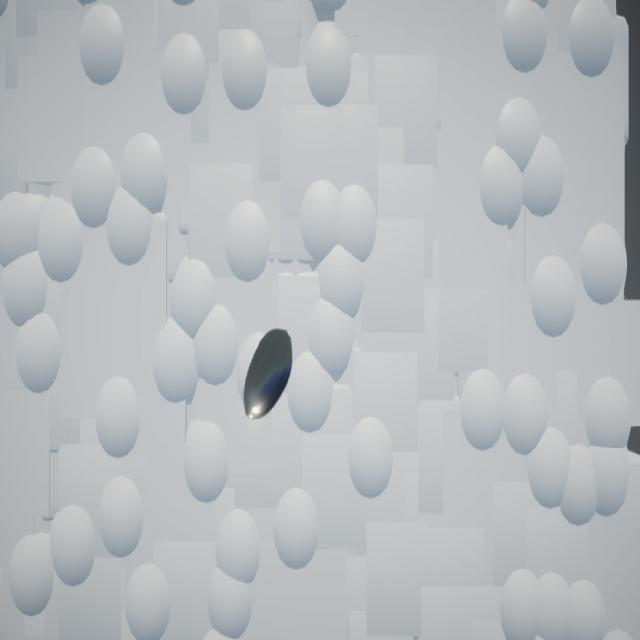top_spoon: (245, 330, 294, 422)
